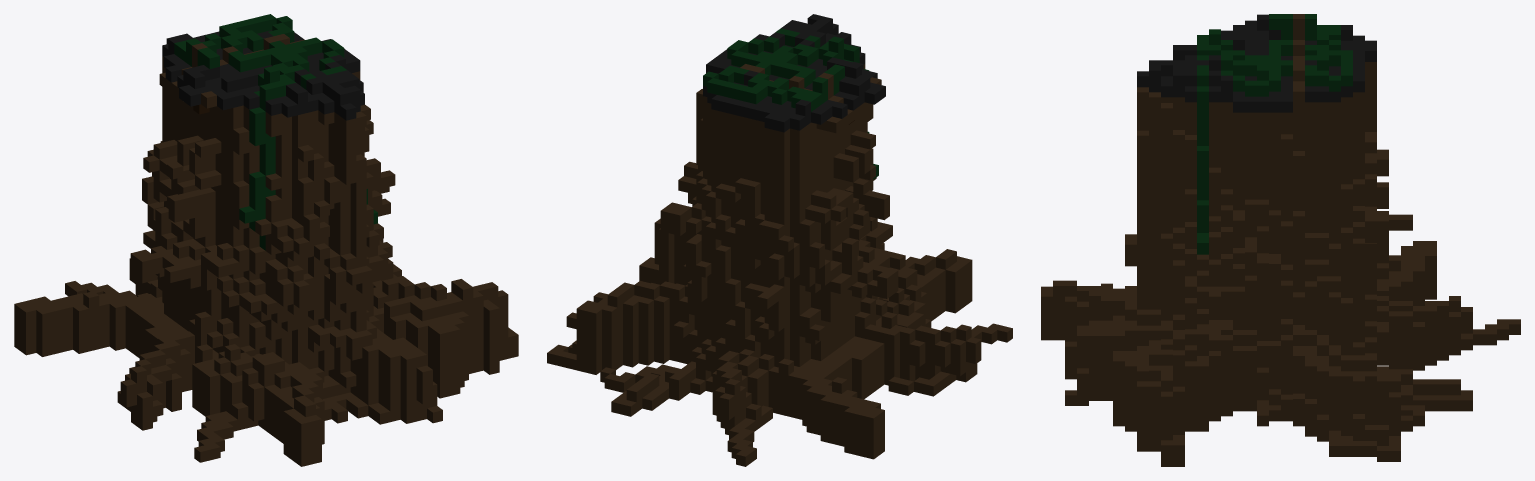
File: stump.obj
The picture shows the model from 3 angles, left to right: view 1: azimuth 30°, elevation 25°; view 2: azimuth 150°, elevation 25°; view 3: azimuth 270°, elevation 25°; orthographic projection. The views are drawn at different scales.
Size of the model in its own units: 3.6 by 3 by 4.
1 material, 1 textured.
